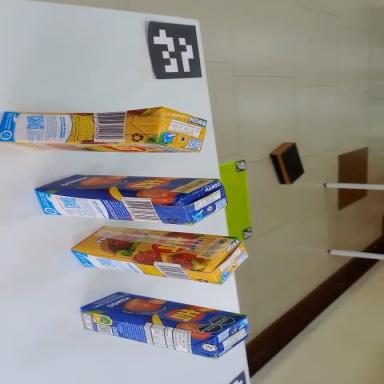HIT-MANGO: (77, 285, 251, 363), (34, 173, 228, 226)
HIT-MORA: (70, 223, 249, 286), (0, 107, 206, 152)
cara_F: (80, 285, 247, 341), (71, 223, 236, 269), (34, 172, 220, 199), (0, 142, 197, 152)
